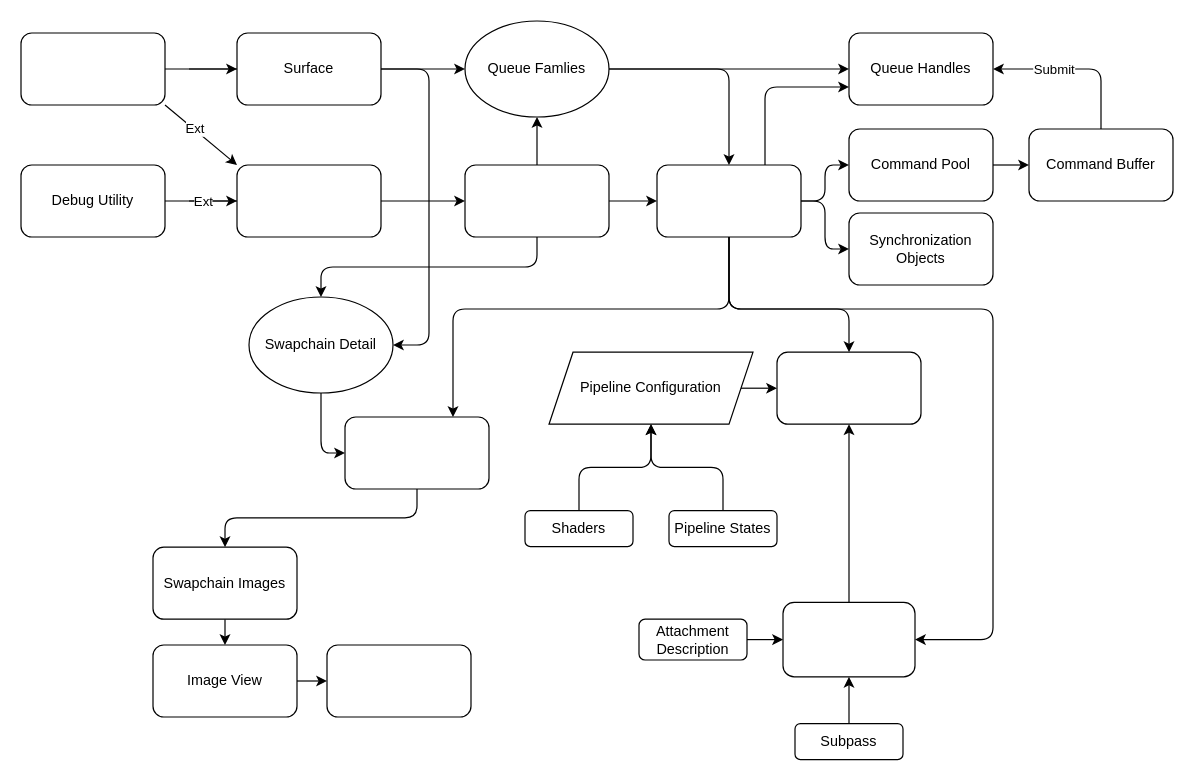
This 1194x781 diagram has some shape labels left out. The centre of each missing label's shape, as x and y in pixels:
(Selected) Physical Device: [536,200]
Device: [728,200]
Framebuffers: [398,680]
Graphics Pipeline: [848,387]
Instance: [308,200]
Render Pass: [848,639]
Swap Chain: [416,452]
Window: [92,68]
